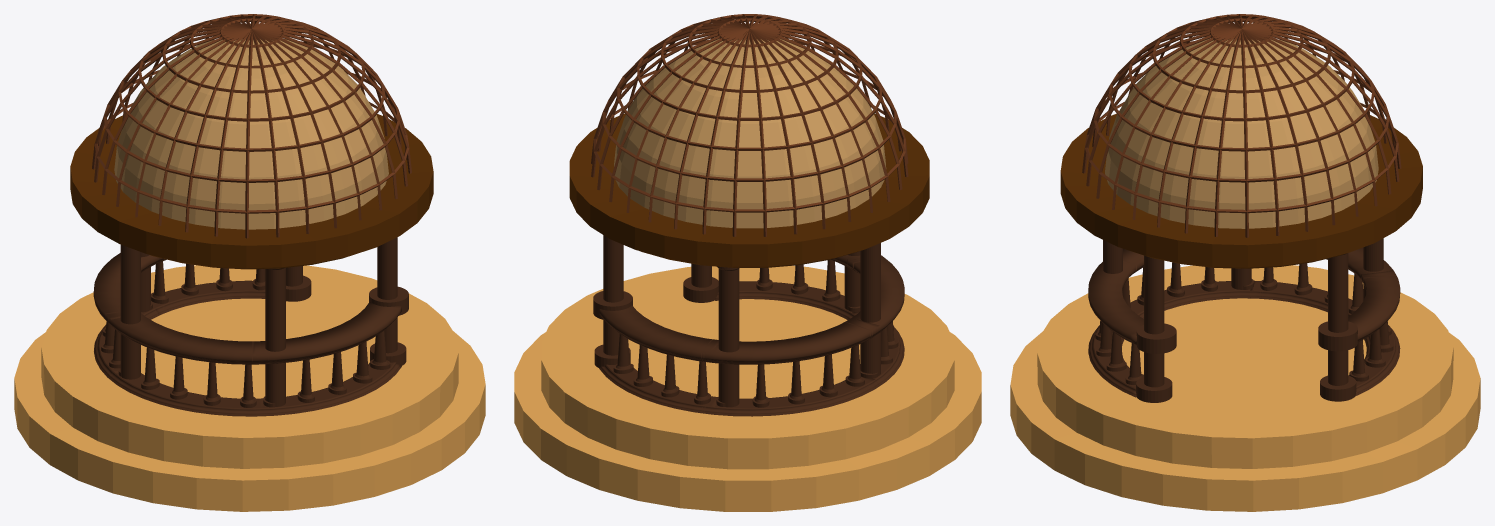
Rendered from gazebo (3).fbx.
The picture shows the model from 3 angles, left to right: view 1: azimuth 30°, elevation 25°; view 2: azimuth 150°, elevation 25°; view 3: azimuth 270°, elevation 25°; orthographic projection.
Visible parts, largest first — view 1: Kuba luar.001; view 2: Kuba luar.001; view 3: Kuba luar.001.
Part boxes in pixels (left/top/right/bottom): Kuba luar.001: left=14, top=14, right=485, bottom=511; Kuba luar.001: left=514, top=14, right=981, bottom=511; Kuba luar.001: left=1010, top=14, right=1480, bottom=511.
Bounding box in the file's own units: 1590 × 1433 × 1590.
